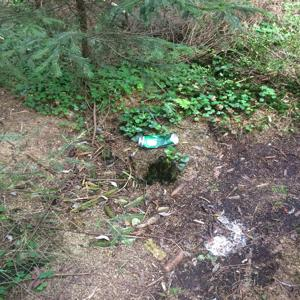metal: (129, 127, 184, 153)
plastic: (199, 211, 251, 257)
